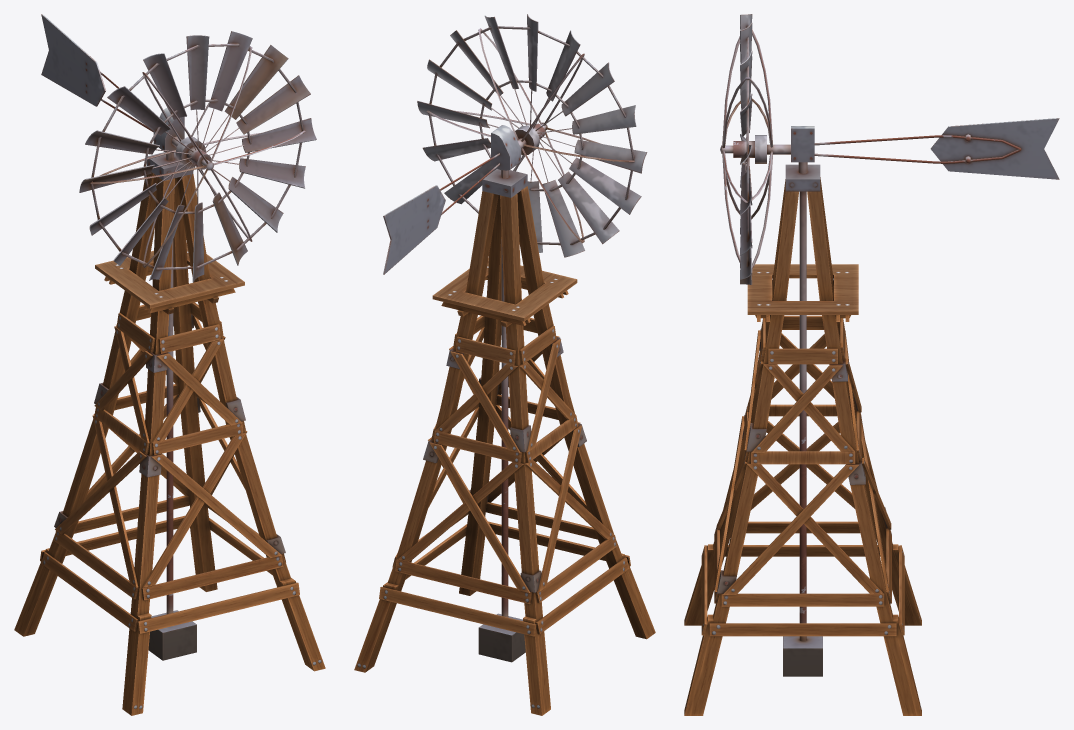
Rendered from WindMill01.FBX.
3 renders of one model, left to right at view 1: azimuth 30°, elevation 25°; view 2: azimuth 150°, elevation 25°; view 3: azimuth 270°, elevation 25°, orthographic. The views are drawn at different scales.
Visible parts, largest first — view 1: WindMill01; view 2: WindMill01; view 3: WindMill01.
Boxes of the visible parts, x1,y1,x2,y2 form: WindMill01: [14, 14, 325, 715]; WindMill01: [354, 14, 655, 715]; WindMill01: [684, 14, 1059, 715].
Size of what is drawn, in the model's own units: 5.07 by 13.25 by 7.03.
